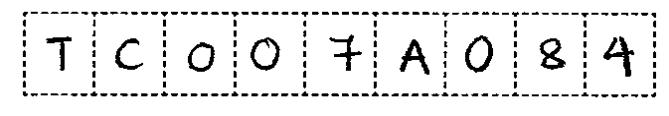0: (244, 33, 285, 76), (458, 32, 499, 75), (183, 36, 218, 80)
4: (598, 32, 640, 82)
7: (323, 29, 369, 77)
8: (532, 34, 570, 77)
A: (393, 34, 437, 77)
C: (110, 34, 151, 76)
T: (42, 32, 78, 74)
